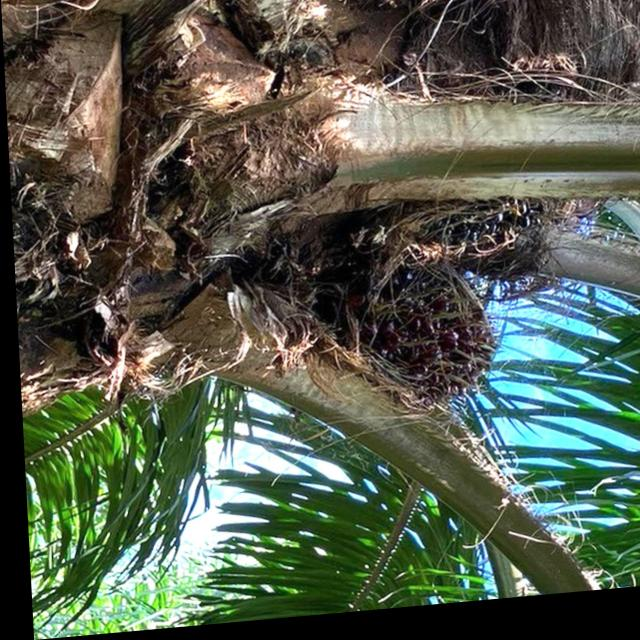ripe: (326, 269, 492, 421)
